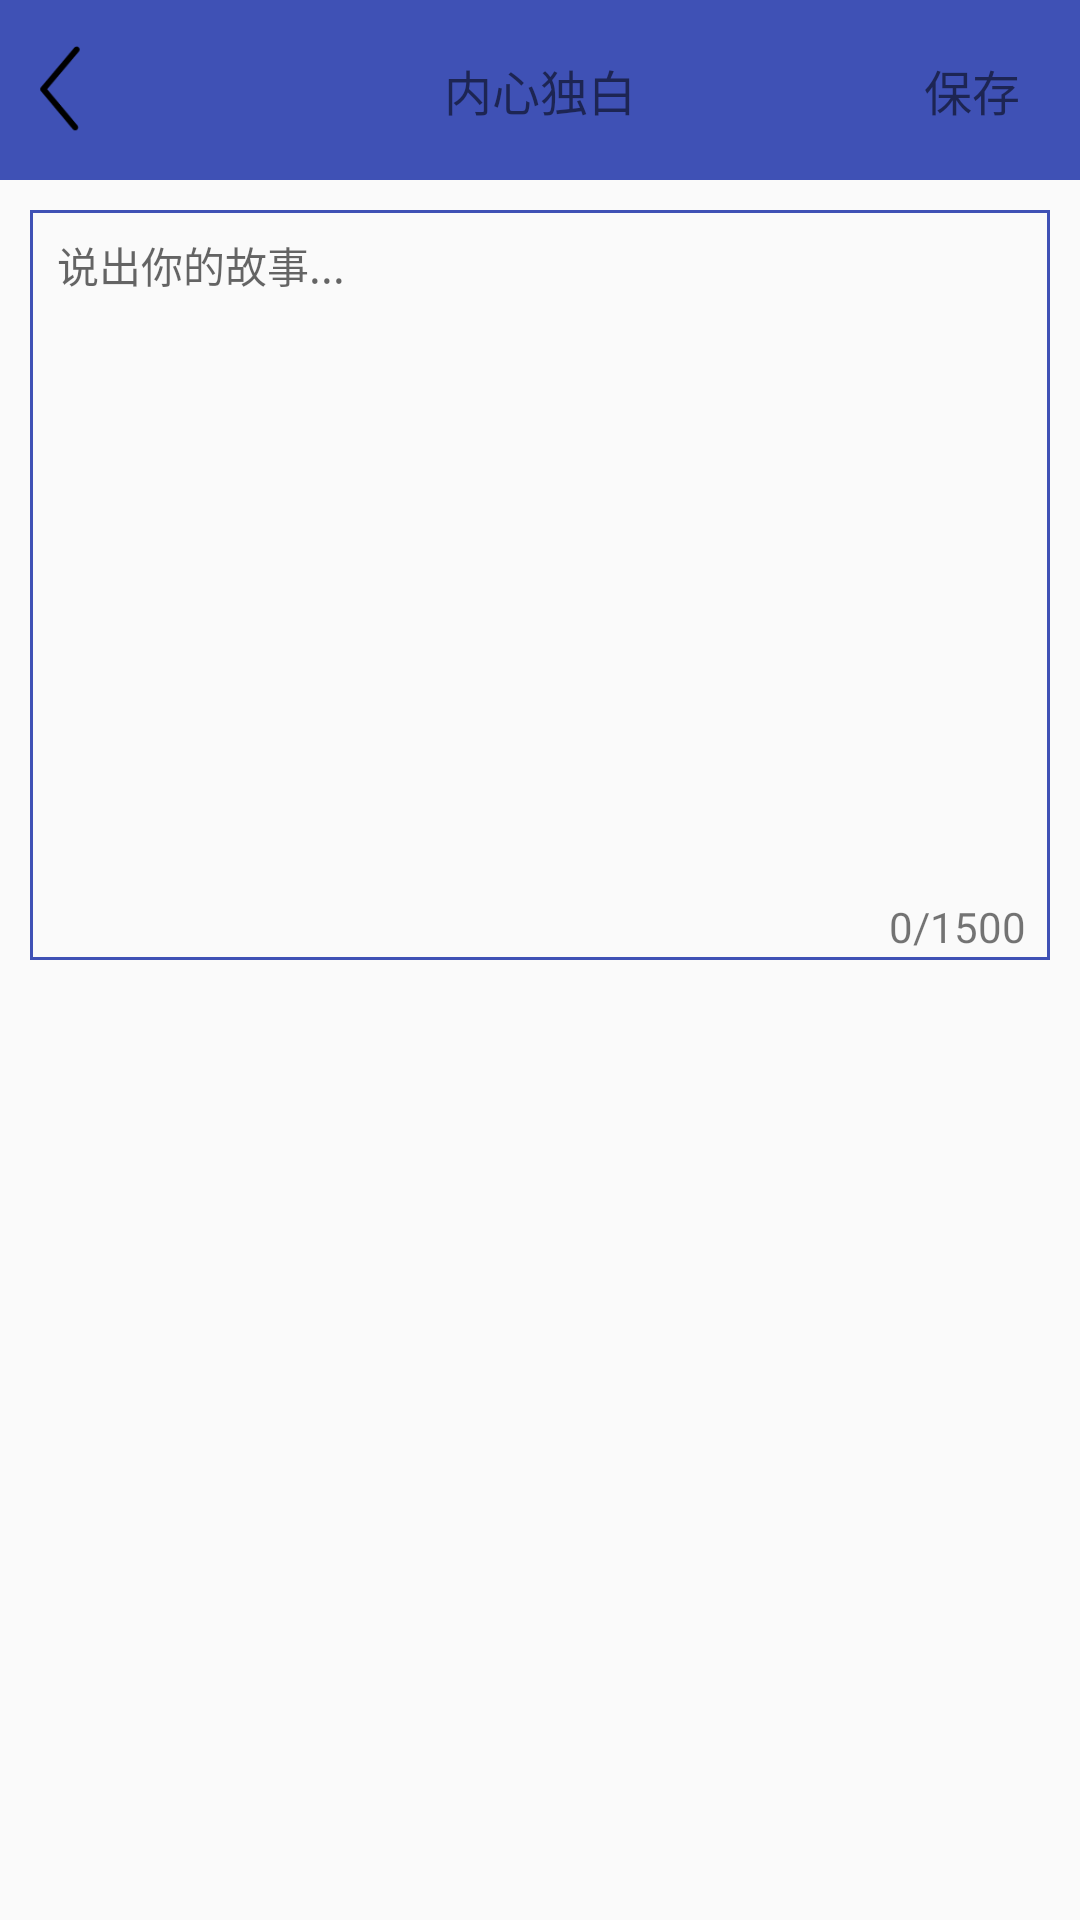

Icons on this 1080px×1920px Android screen, each with the point to tap as (x=x, y=y):
arrow left: (x=60, y=88)
